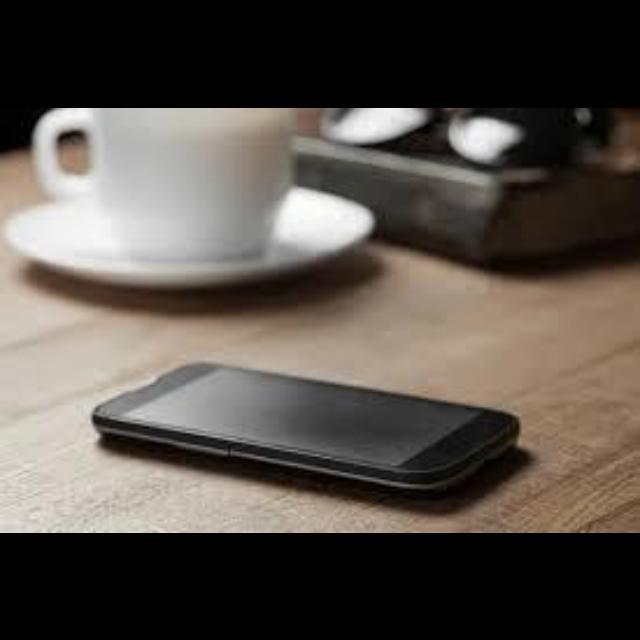Phone: (93, 362, 521, 498)
